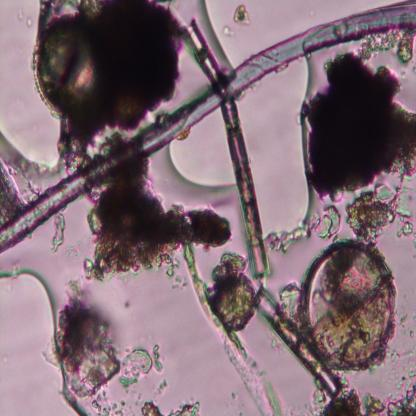Air bubble: (254, 60, 323, 245), (0, 271, 87, 416), (169, 130, 235, 192)
Anthropogenic: (0, 0, 416, 251)
Background material: (297, 52, 416, 202), (184, 247, 278, 412), (90, 178, 236, 280), (99, 0, 185, 136), (54, 288, 121, 396), (342, 176, 416, 246), (320, 374, 416, 416), (267, 206, 346, 252), (118, 342, 168, 390), (357, 31, 416, 71), (0, 143, 25, 227), (136, 397, 199, 415), (51, 212, 67, 253), (231, 2, 255, 29)
Diatom: (305, 236, 398, 369), (223, 99, 274, 282), (256, 290, 339, 399), (34, 12, 102, 116), (181, 13, 226, 88)
